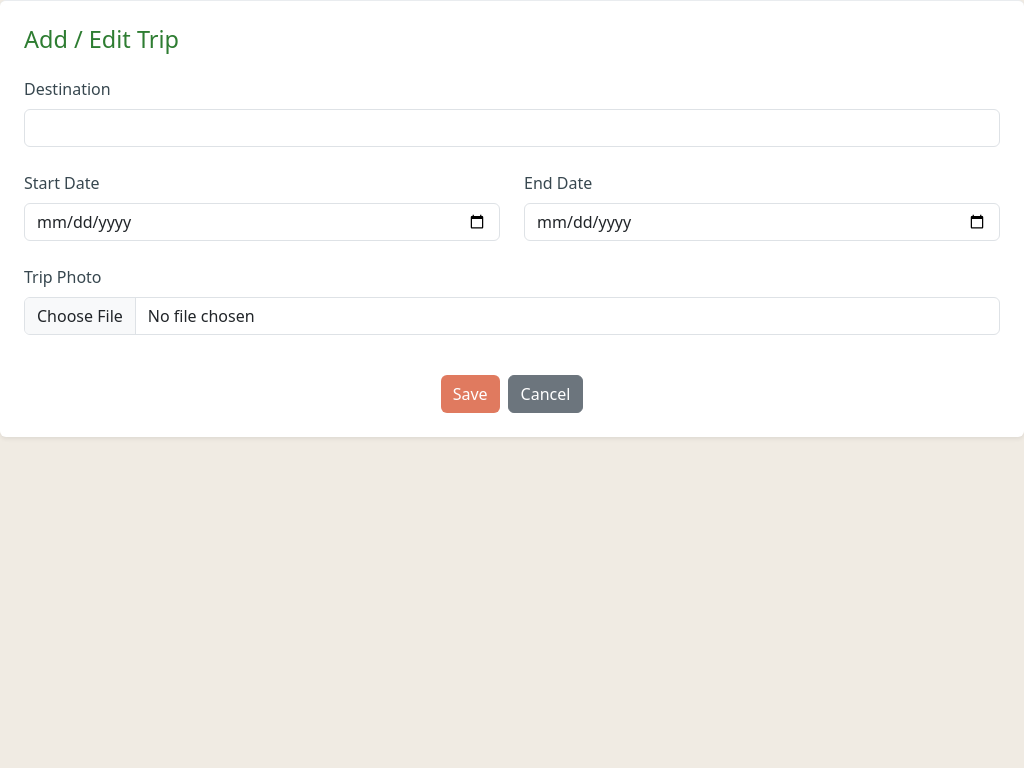
TripForm › automatically generates itinerary days when dates are selected
Note: Set start and end dates
Step 1. Type "2025-07-20" into the date field below "Start Date" → (262, 222), box [24, 203, 500, 241]
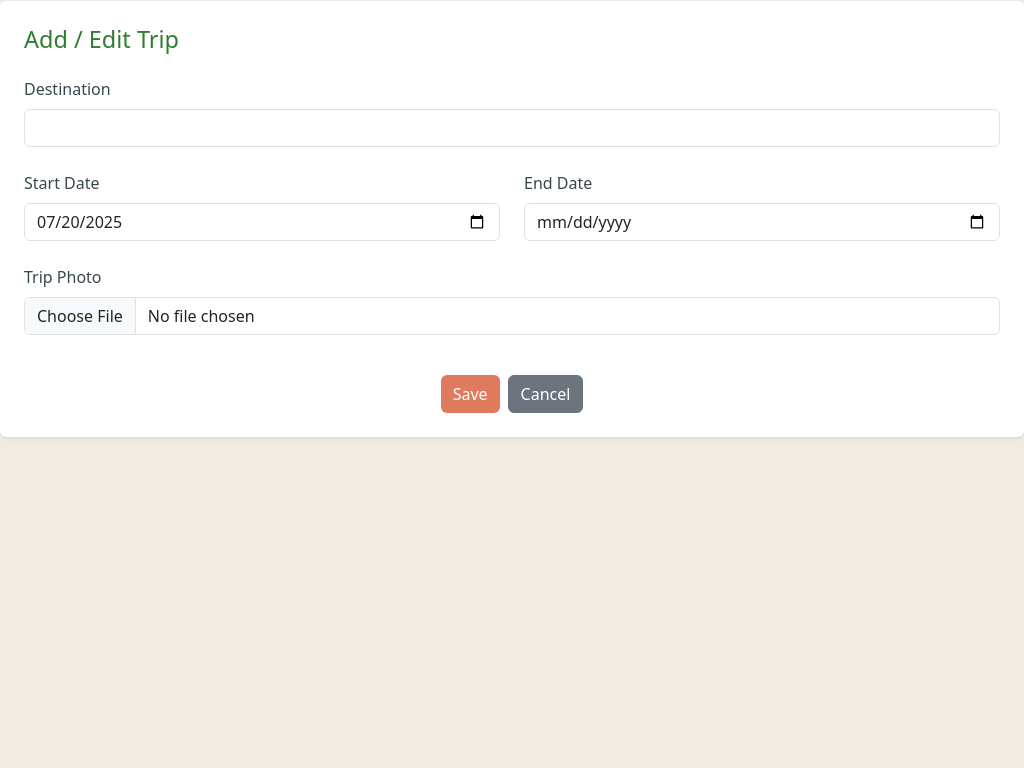
Step 2. Type "2025-07-22" into the date field below "End Date" → (762, 222), box [524, 203, 1000, 241]
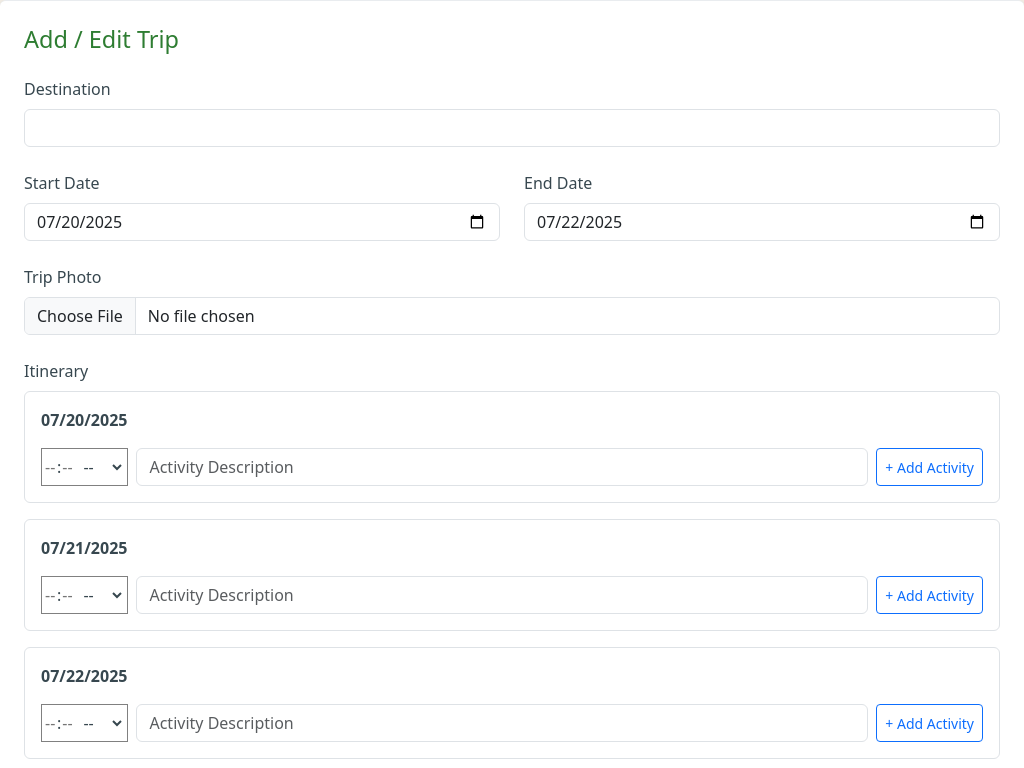
Now the text "07/20/2025" is shown, box [41, 409, 127, 431]
Now the text "07/21/2025" is shown, box [41, 537, 127, 559]
Now the text "07/22/2025" is shown, box [41, 665, 127, 687]
